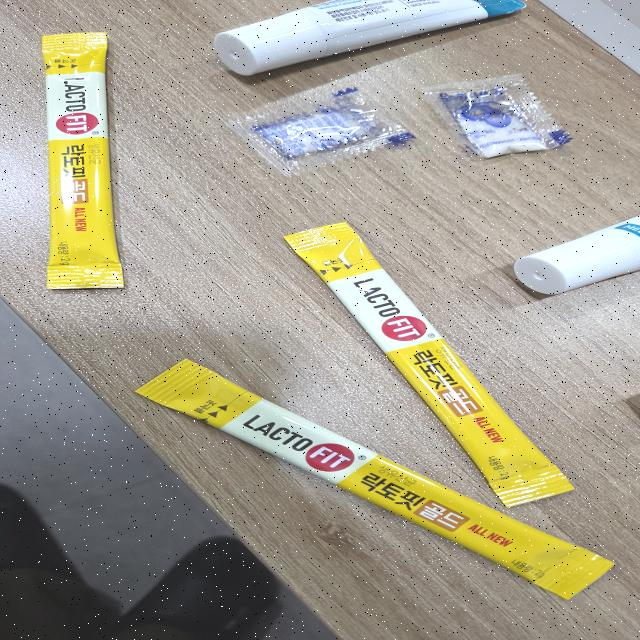lacto: (118, 353, 627, 615), (279, 214, 587, 511), (32, 28, 137, 299)
lip: (200, 0, 537, 89), (484, 201, 640, 306)
salt: (214, 79, 431, 188), (416, 69, 585, 166)
